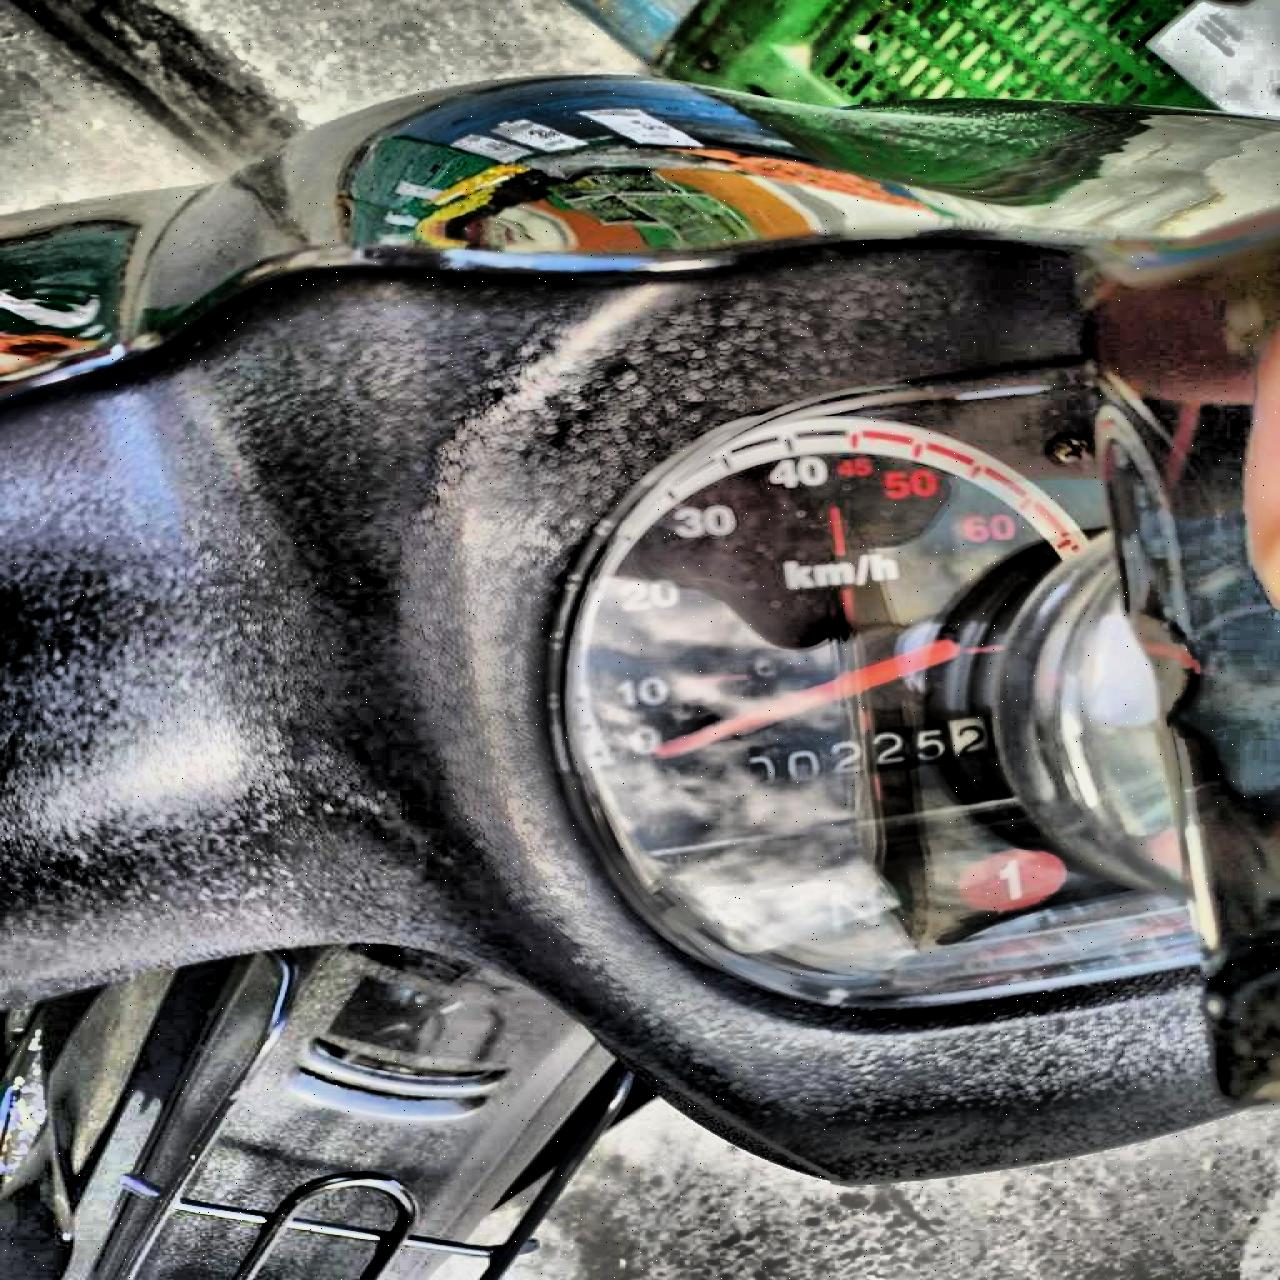0: (743, 752, 775, 788), (785, 748, 818, 782)
2: (870, 730, 905, 765), (830, 740, 862, 774), (955, 724, 983, 755)
5: (915, 728, 943, 760)
odometer: (738, 711, 997, 790)
